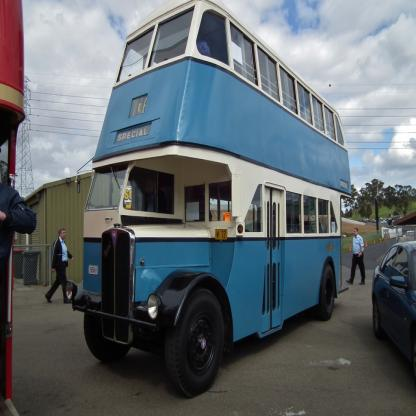Car: (374, 241, 416, 365)
